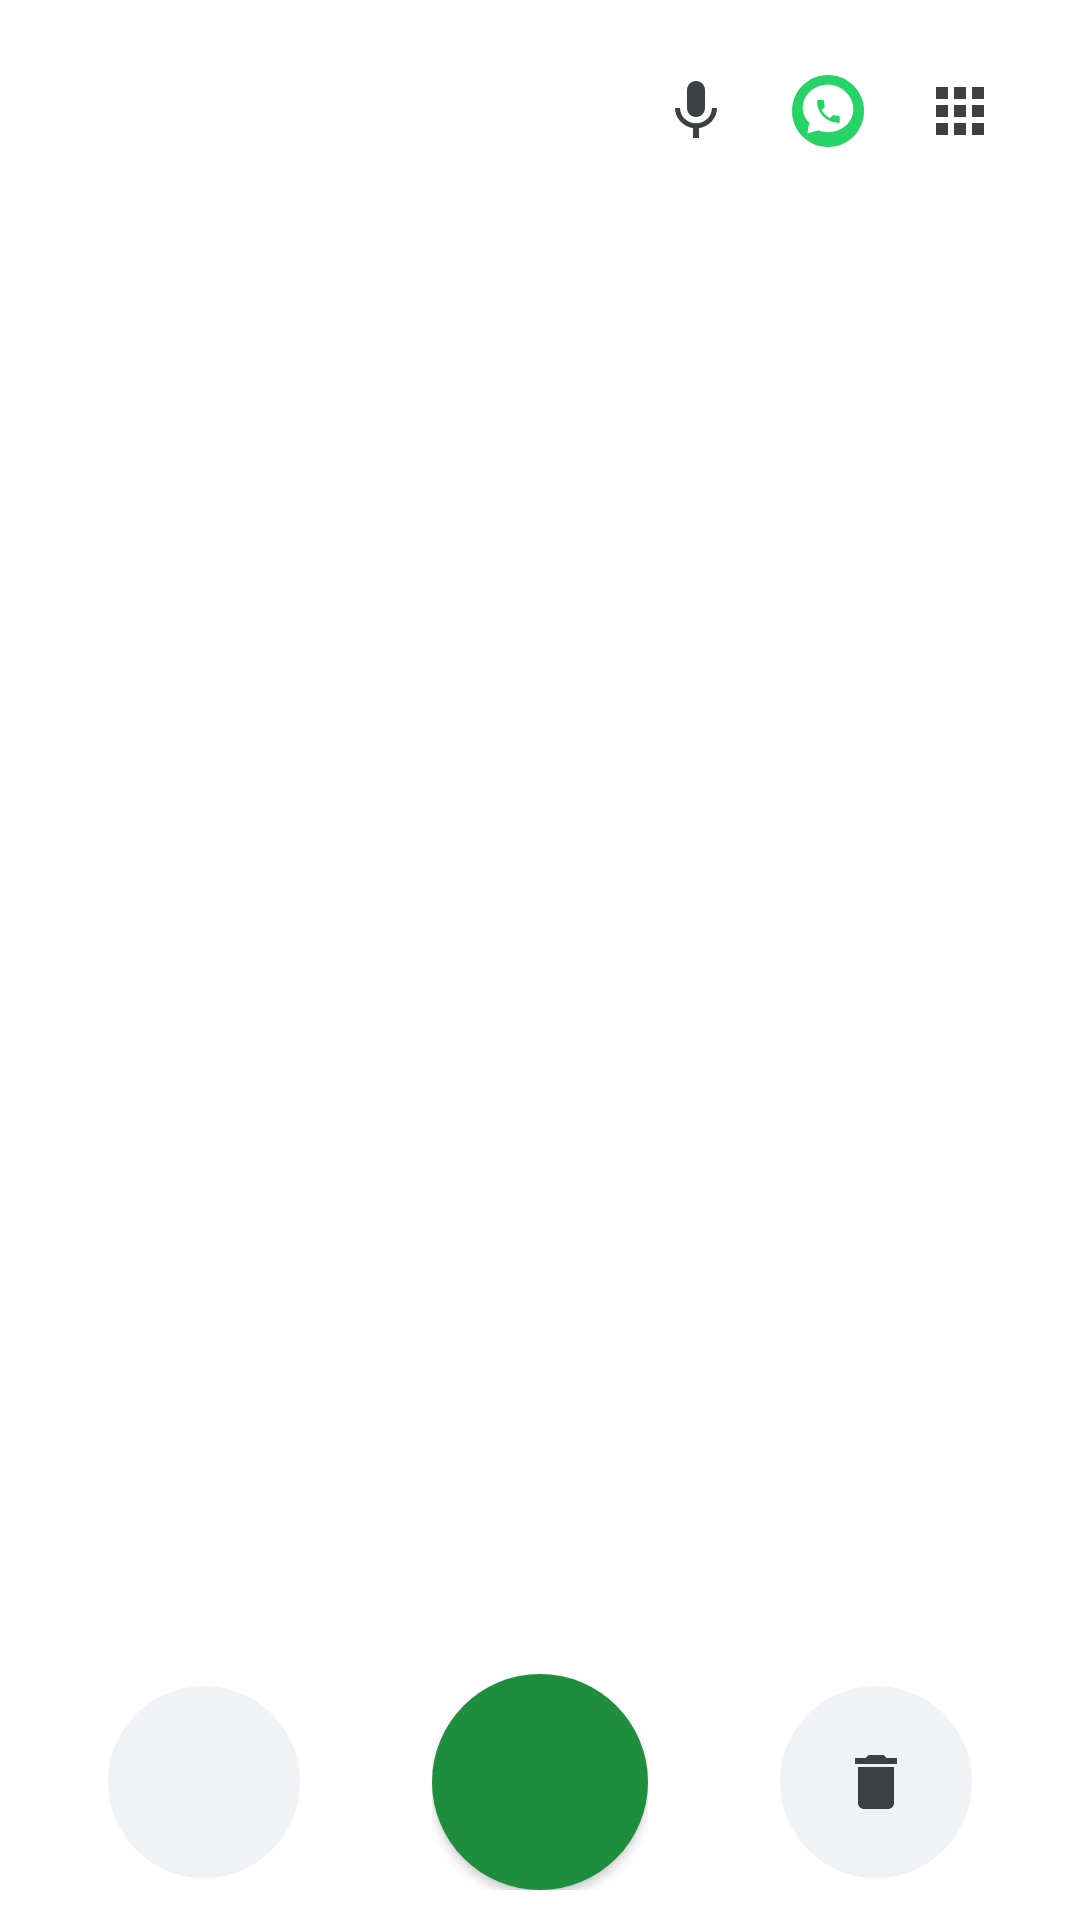

Locate icon controls on the screen. Image size 1080*1920, boxes as {"left": x1, "top": y1, "right": x2, "bottom": y2}.
Delete: {"left": 855, "top": 1755, "right": 897, "bottom": 1809}
Voice input: {"left": 675, "top": 81, "right": 717, "bottom": 138}
